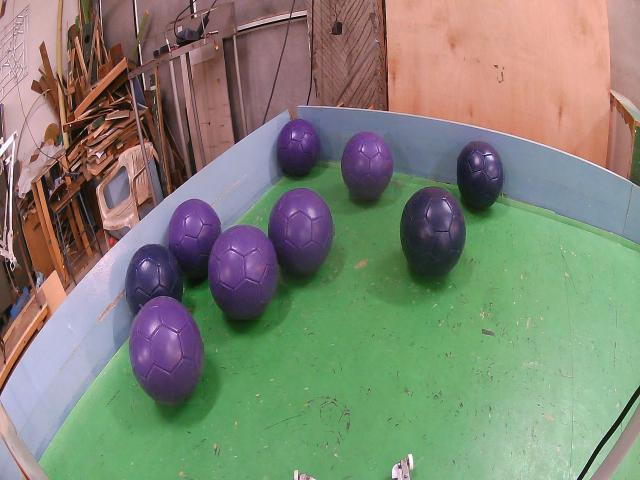jambhalya: (130, 296, 203, 404), (208, 225, 278, 320), (269, 188, 334, 275), (169, 199, 222, 279), (341, 132, 394, 199), (277, 118, 320, 177)
kaalyya: (400, 186, 466, 276), (125, 245, 182, 315), (457, 142, 504, 209)
